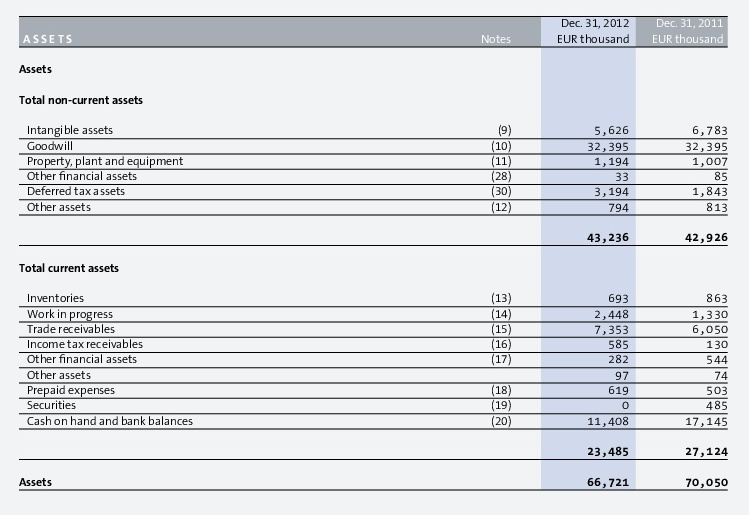table: (0, 0, 749, 515)
